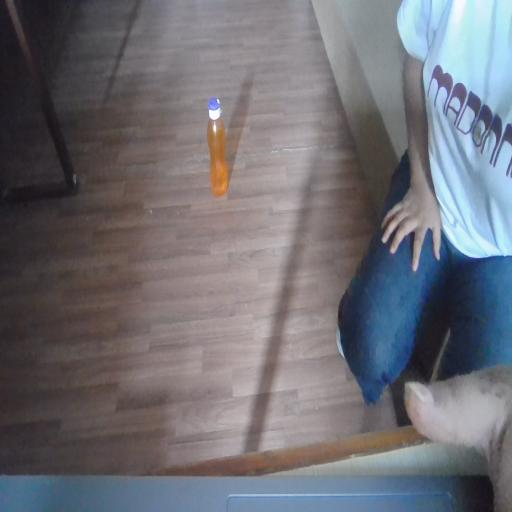Bottle: (201, 96, 248, 213)
